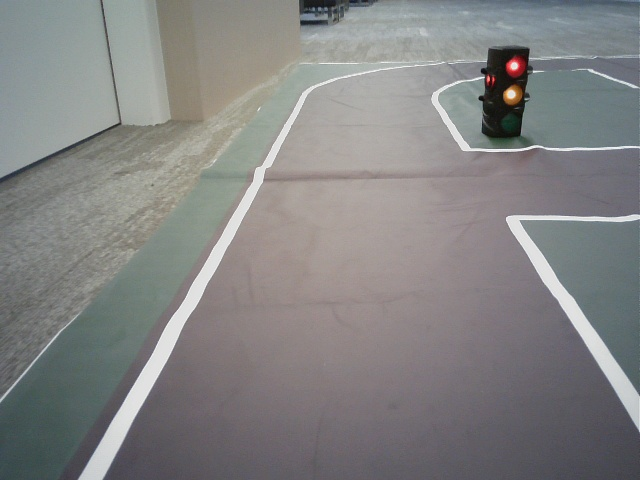red: (496, 51, 525, 134)
